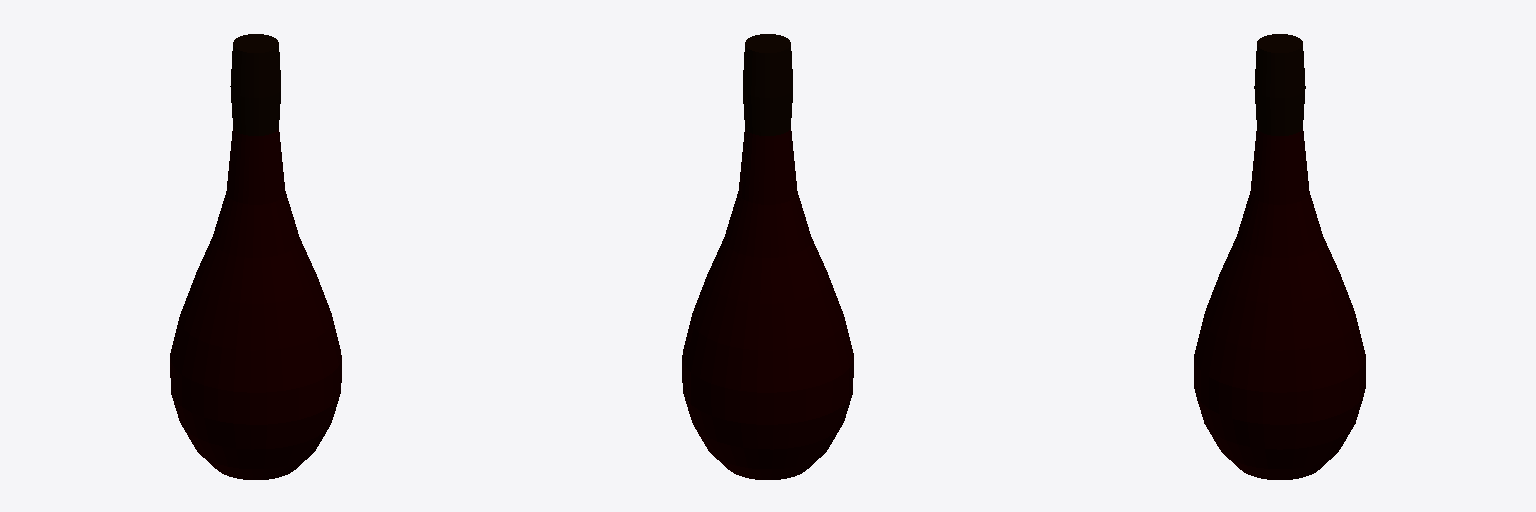
Rendered from healthPotion.obj.
3 views of the same model, side by side, from view 1: azimuth 30°, elevation 25°; view 2: azimuth 150°, elevation 25°; view 3: azimuth 270°, elevation 25° (orthographic).
Visible parts, largest first — view 1: health_potion; view 2: health_potion; view 3: health_potion.
Part boxes in pixels (bbox=[...]): health_potion: bbox=[170, 34, 341, 479]; health_potion: bbox=[682, 34, 853, 479]; health_potion: bbox=[1194, 34, 1365, 479].
Size of the model in its own units: 8.35 by 22.76 by 8.35.